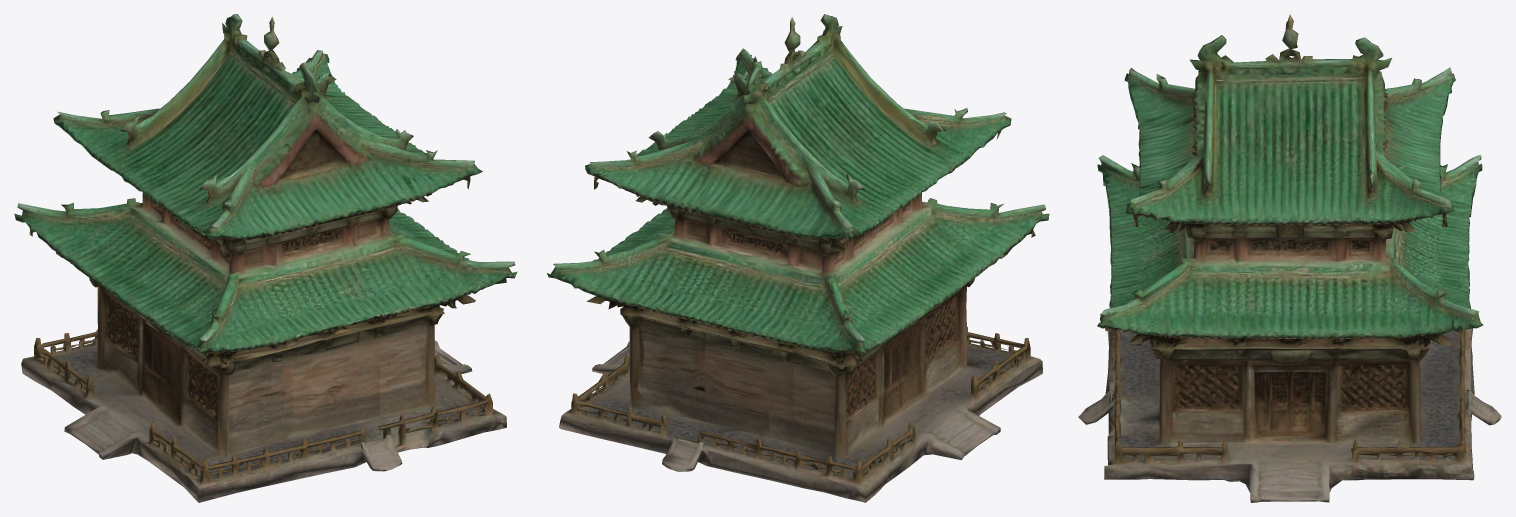
The model's file is building-chongfusi.glb.
3 views of the same model, side by side, from view 1: azimuth 30°, elevation 25°; view 2: azimuth 150°, elevation 25°; view 3: azimuth 270°, elevation 25° (orthographic). The views are drawn at different scales.
Parts seen in each view (by area): view 1: node_9877cc16-84a7-434b-9419-bef2d2112d4d; view 2: node_9877cc16-84a7-434b-9419-bef2d2112d4d; view 3: node_9877cc16-84a7-434b-9419-bef2d2112d4d.
Part boxes in pixels (x1,y1,x2,y2): node_9877cc16-84a7-434b-9419-bef2d2112d4d: (14, 14, 517, 502); node_9877cc16-84a7-434b-9419-bef2d2112d4d: (547, 14, 1049, 502); node_9877cc16-84a7-434b-9419-bef2d2112d4d: (1078, 14, 1501, 502).
Size of the model in its own units: 0.9997 by 0.9959 by 0.9605.
1 material, 1 textured.
